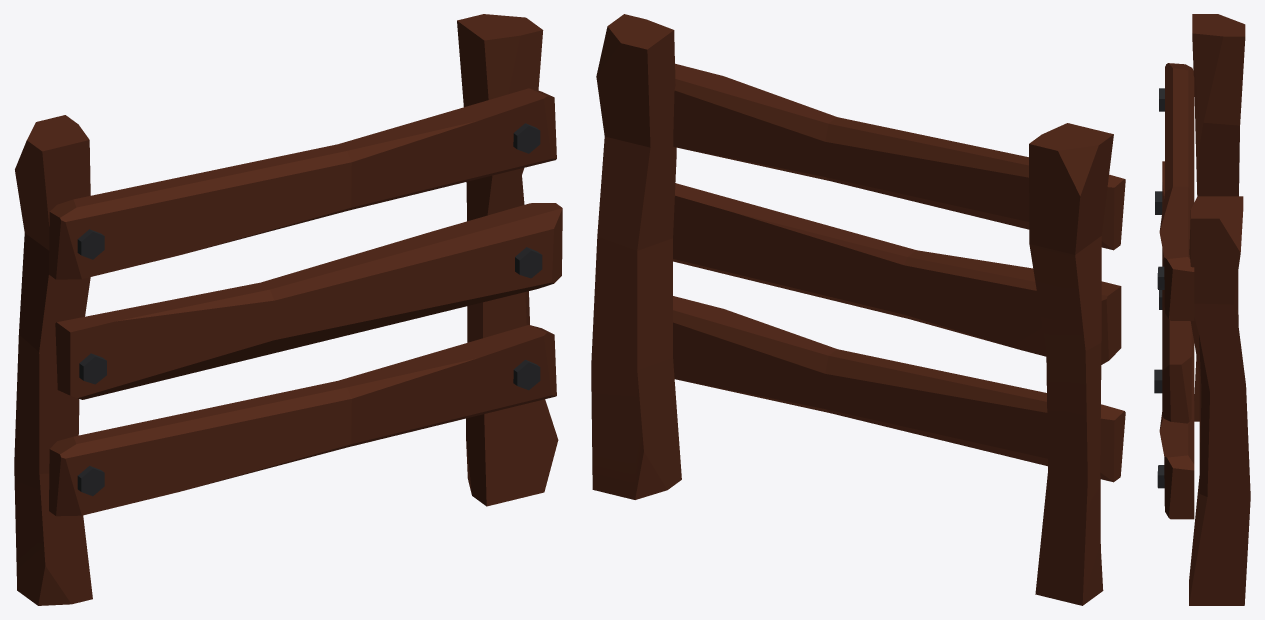
Rendered from Fence_2_2.fbx.
3 views of the same model, side by side, from view 1: azimuth 30°, elevation 25°; view 2: azimuth 150°, elevation 25°; view 3: azimuth 270°, elevation 25° (orthographic). The views are drawn at different scales.
Visible parts, largest first — view 1: Fence_2_2; view 2: Fence_2_2; view 3: Fence_2_2.
Part boxes in pixels (<box>): Fence_2_2: <box>14,14,562,605</box>; Fence_2_2: <box>591,14,1125,605</box>; Fence_2_2: <box>1154,14,1250,605</box>.
Bounding box in the file's own units: 44.77 × 38.12 × 8.61.
